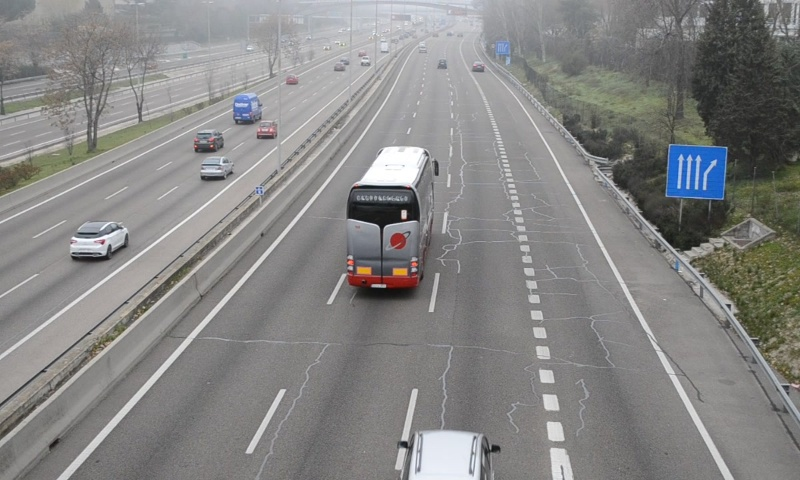bus: (346, 146, 435, 292)
car: (471, 60, 485, 73)
